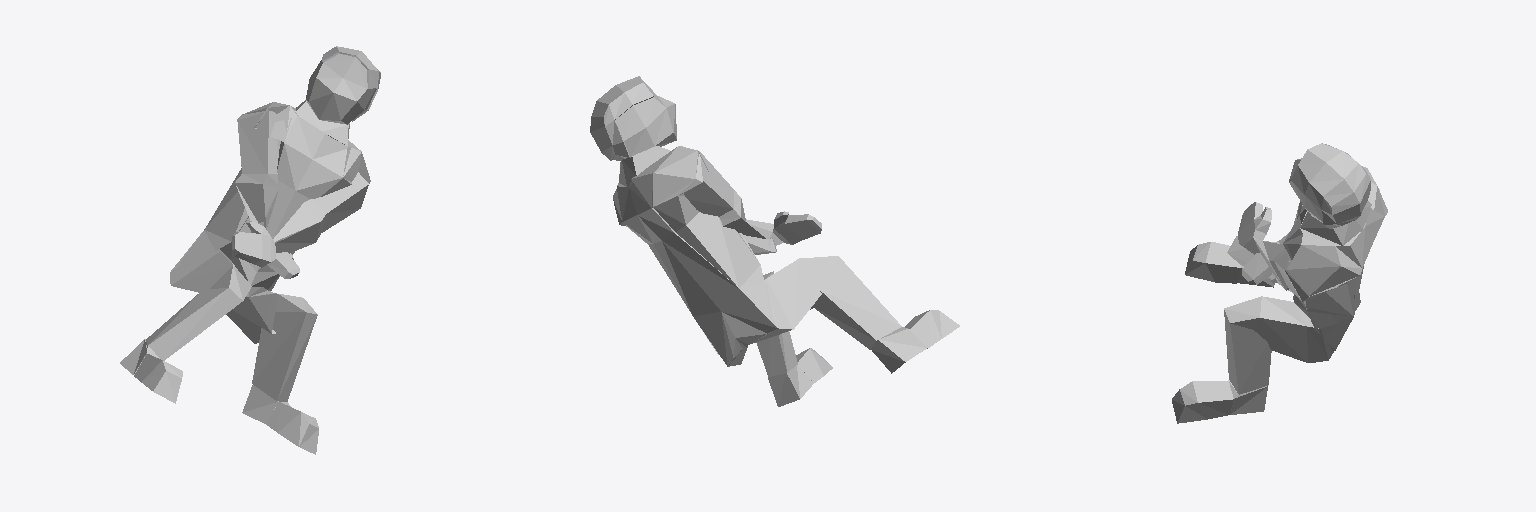
The model's file is npc02pose.obj.
3 views of the same model, side by side, from view 1: azimuth 30°, elevation 25°; view 2: azimuth 150°, elevation 25°; view 3: azimuth 270°, elevation 25° (orthographic).
Parts seen in each view (by area): view 1: Cube_Cube.002; view 2: Cube_Cube.002; view 3: Cube_Cube.002.
Part boxes in pixels (left/top/right/bottom): Cube_Cube.002: left=120, top=46, right=380, bottom=454; Cube_Cube.002: left=590, top=76, right=959, bottom=406; Cube_Cube.002: left=1172, top=143, right=1387, bottom=423.
Size of the model in its own units: 0.8223 by 0.8692 by 0.5225.